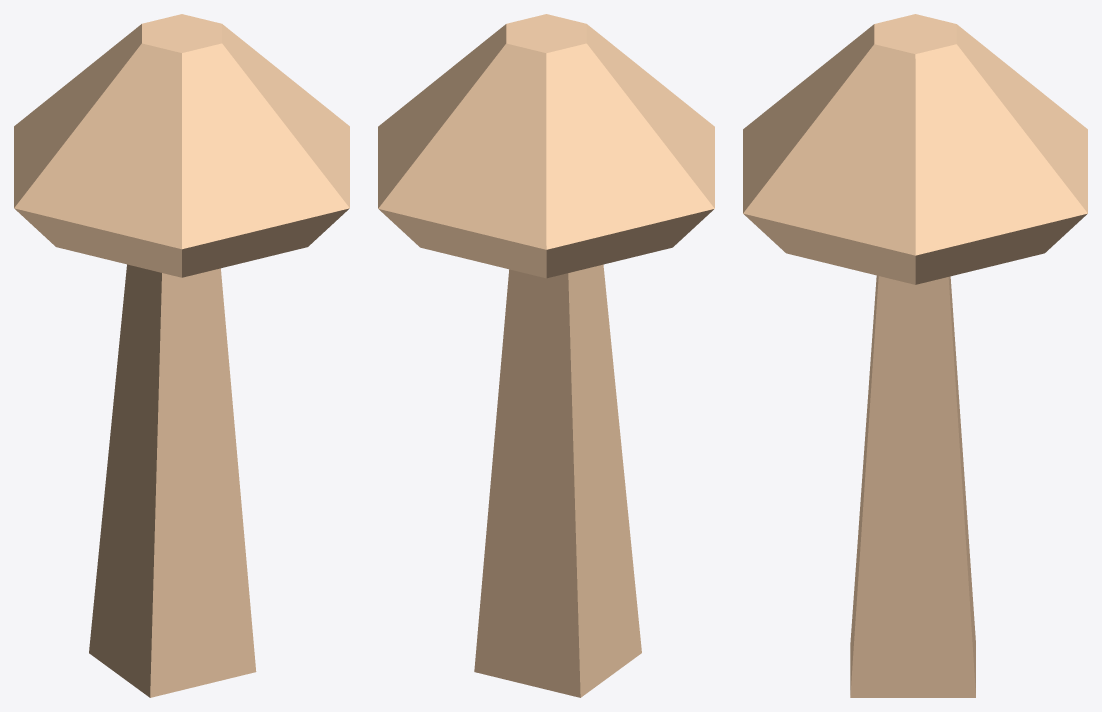
The model's file is mushroom_brownTall.fbx.
3 renders of one model, left to right at view 1: azimuth 30°, elevation 25°; view 2: azimuth 150°, elevation 25°; view 3: azimuth 270°, elevation 25°, orthographic. The views are drawn at different scales.
Parts seen in each view (by area): view 1: mushroom_brownTall; view 2: mushroom_brownTall; view 3: mushroom_brownTall.
Boxes of the visible parts, x1,y1,x2,y2 form: mushroom_brownTall: (14, 14, 349, 697); mushroom_brownTall: (378, 14, 714, 697); mushroom_brownTall: (743, 14, 1087, 697).
Bounding box in the file's own units: 34.23 × 60.92 × 29.64.
